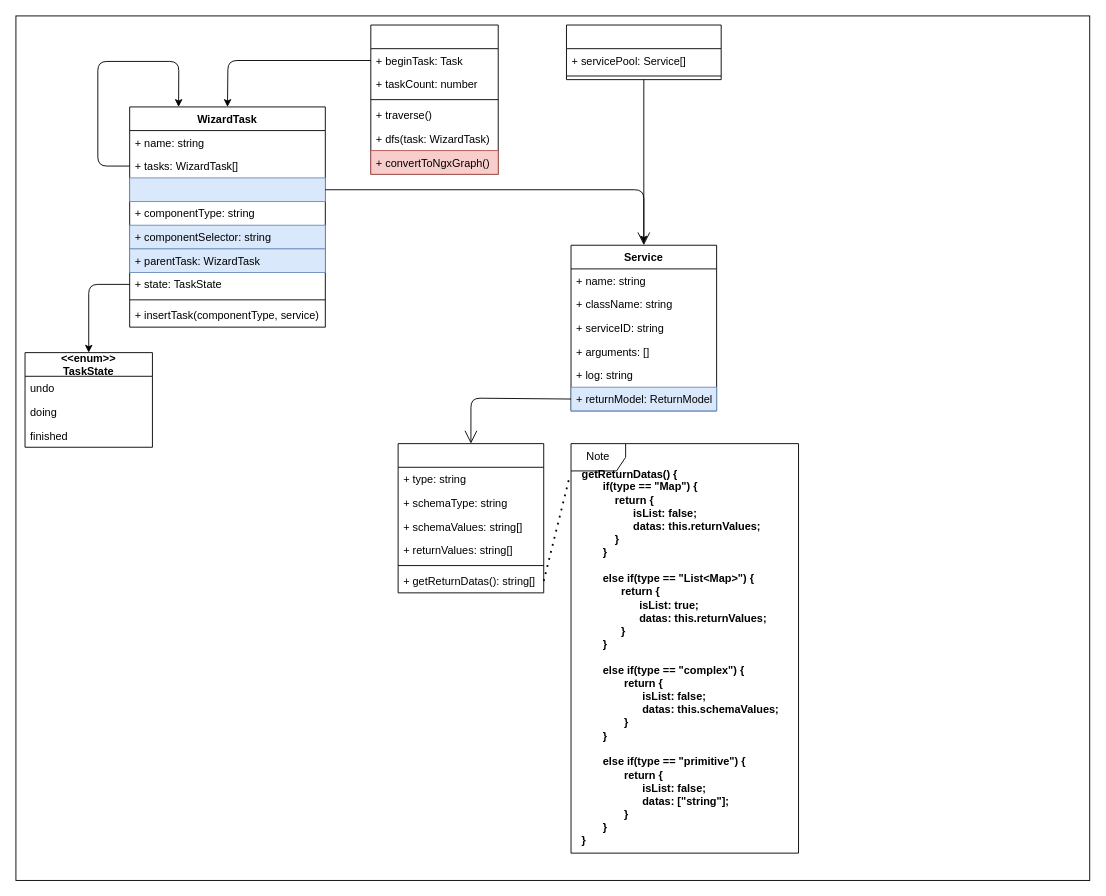
The diagram is 1106 pixels wide and 896 high, and some of its shapes have lost their labels. Each missing label, with the box of its shape:
+ service: Service: (129, 177, 325, 202)
PipelineStorage: (566, 24, 721, 80)
ReturnModel: (397, 443, 544, 593)
TaskGraph: (370, 24, 498, 174)
